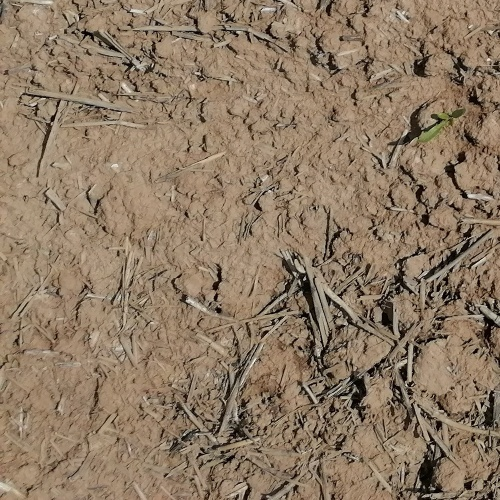beet: (417, 108, 467, 146)
